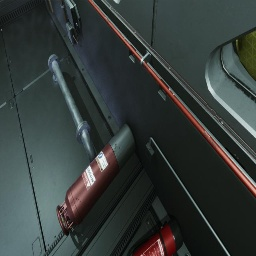FireExtinguisher ]: (127, 218, 183, 256)
NitrogenTank ,: (56, 123, 136, 236)
